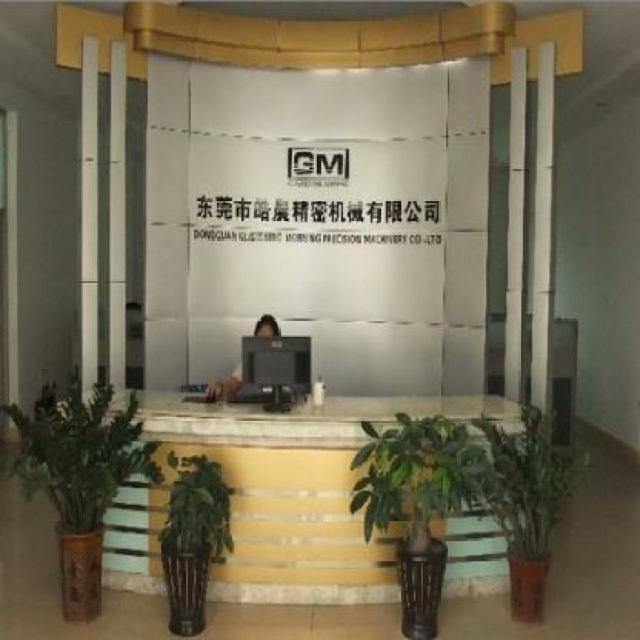frontdesk: (44, 376, 568, 612)
